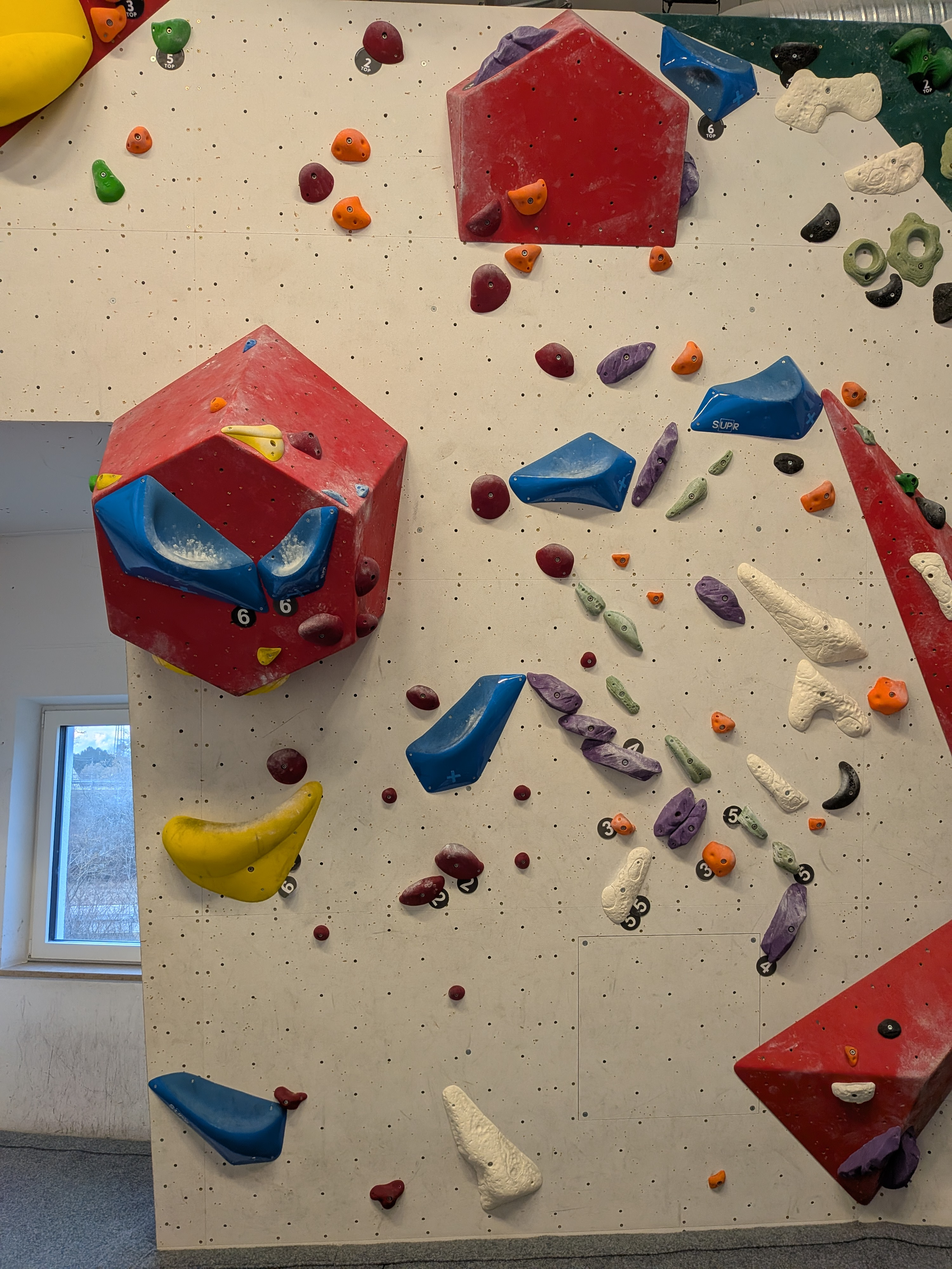hold: (96, 476, 266, 612), (160, 784, 321, 900), (407, 674, 524, 792), (737, 563, 867, 665), (444, 1086, 541, 1214), (147, 1073, 283, 1164), (0, 0, 93, 125), (693, 357, 823, 441), (509, 433, 636, 511), (660, 27, 756, 123), (258, 507, 337, 603), (774, 70, 883, 133), (789, 660, 870, 737), (473, 26, 556, 84), (839, 1129, 920, 1187), (887, 213, 943, 286), (844, 143, 924, 194), (631, 422, 678, 506), (889, 28, 952, 88), (602, 847, 651, 924), (747, 754, 808, 812), (762, 883, 807, 961), (581, 740, 662, 780), (655, 789, 707, 847), (910, 552, 952, 620), (599, 343, 656, 385), (696, 576, 745, 623), (224, 425, 283, 461), (526, 674, 581, 712), (843, 239, 886, 287), (667, 735, 712, 780), (772, 42, 823, 81), (821, 761, 860, 811), (362, 20, 404, 63), (471, 265, 509, 312), (435, 844, 483, 881), (472, 475, 510, 518), (603, 610, 642, 651), (561, 714, 616, 743), (298, 613, 344, 647), (668, 478, 709, 516), (266, 747, 306, 785), (802, 204, 841, 242), (89, 4, 127, 43), (508, 181, 547, 216), (298, 163, 332, 202), (537, 545, 576, 579), (151, 19, 191, 52), (398, 876, 445, 904), (467, 200, 502, 237), (537, 343, 575, 377), (330, 129, 369, 162), (870, 678, 909, 711), (92, 160, 123, 201), (608, 676, 639, 714), (333, 197, 369, 229), (704, 842, 737, 876), (867, 275, 902, 307), (679, 151, 699, 207), (802, 481, 836, 513), (504, 244, 541, 273), (738, 805, 767, 839), (577, 582, 605, 617), (152, 654, 194, 677), (355, 556, 379, 596), (245, 675, 290, 696), (289, 431, 321, 460), (370, 1181, 404, 1208), (833, 1082, 874, 1104), (675, 342, 704, 373), (918, 498, 947, 525), (406, 687, 440, 710), (773, 843, 799, 873), (933, 283, 952, 324), (126, 127, 152, 154), (272, 1087, 304, 1108), (940, 127, 952, 180), (773, 453, 803, 474), (709, 449, 733, 475), (841, 383, 865, 407), (356, 613, 378, 637), (94, 472, 123, 490), (854, 423, 876, 445), (649, 248, 671, 269), (257, 647, 282, 665), (321, 489, 347, 506), (714, 713, 736, 733), (898, 473, 917, 495), (613, 815, 633, 833), (843, 1043, 858, 1067), (880, 1021, 900, 1037), (709, 1171, 727, 1188), (209, 396, 226, 413), (514, 786, 531, 801), (613, 552, 631, 566), (808, 817, 826, 831), (448, 986, 464, 1000), (516, 851, 529, 868), (582, 653, 597, 667), (383, 788, 397, 803), (242, 338, 257, 352), (312, 926, 327, 939), (650, 590, 665, 603), (355, 483, 368, 497), (89, 474, 96, 492)
volume: (91, 323, 410, 696), (729, 920, 952, 1208), (446, 9, 690, 248), (820, 388, 952, 760)
